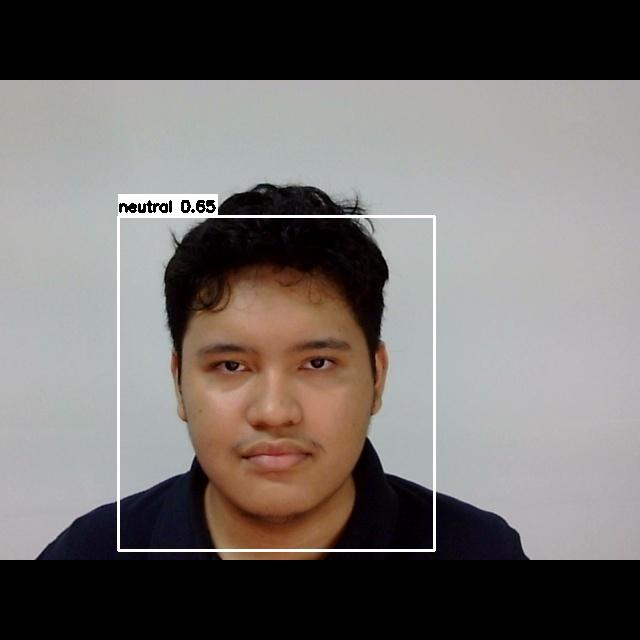Happy: (172, 316, 377, 481)
